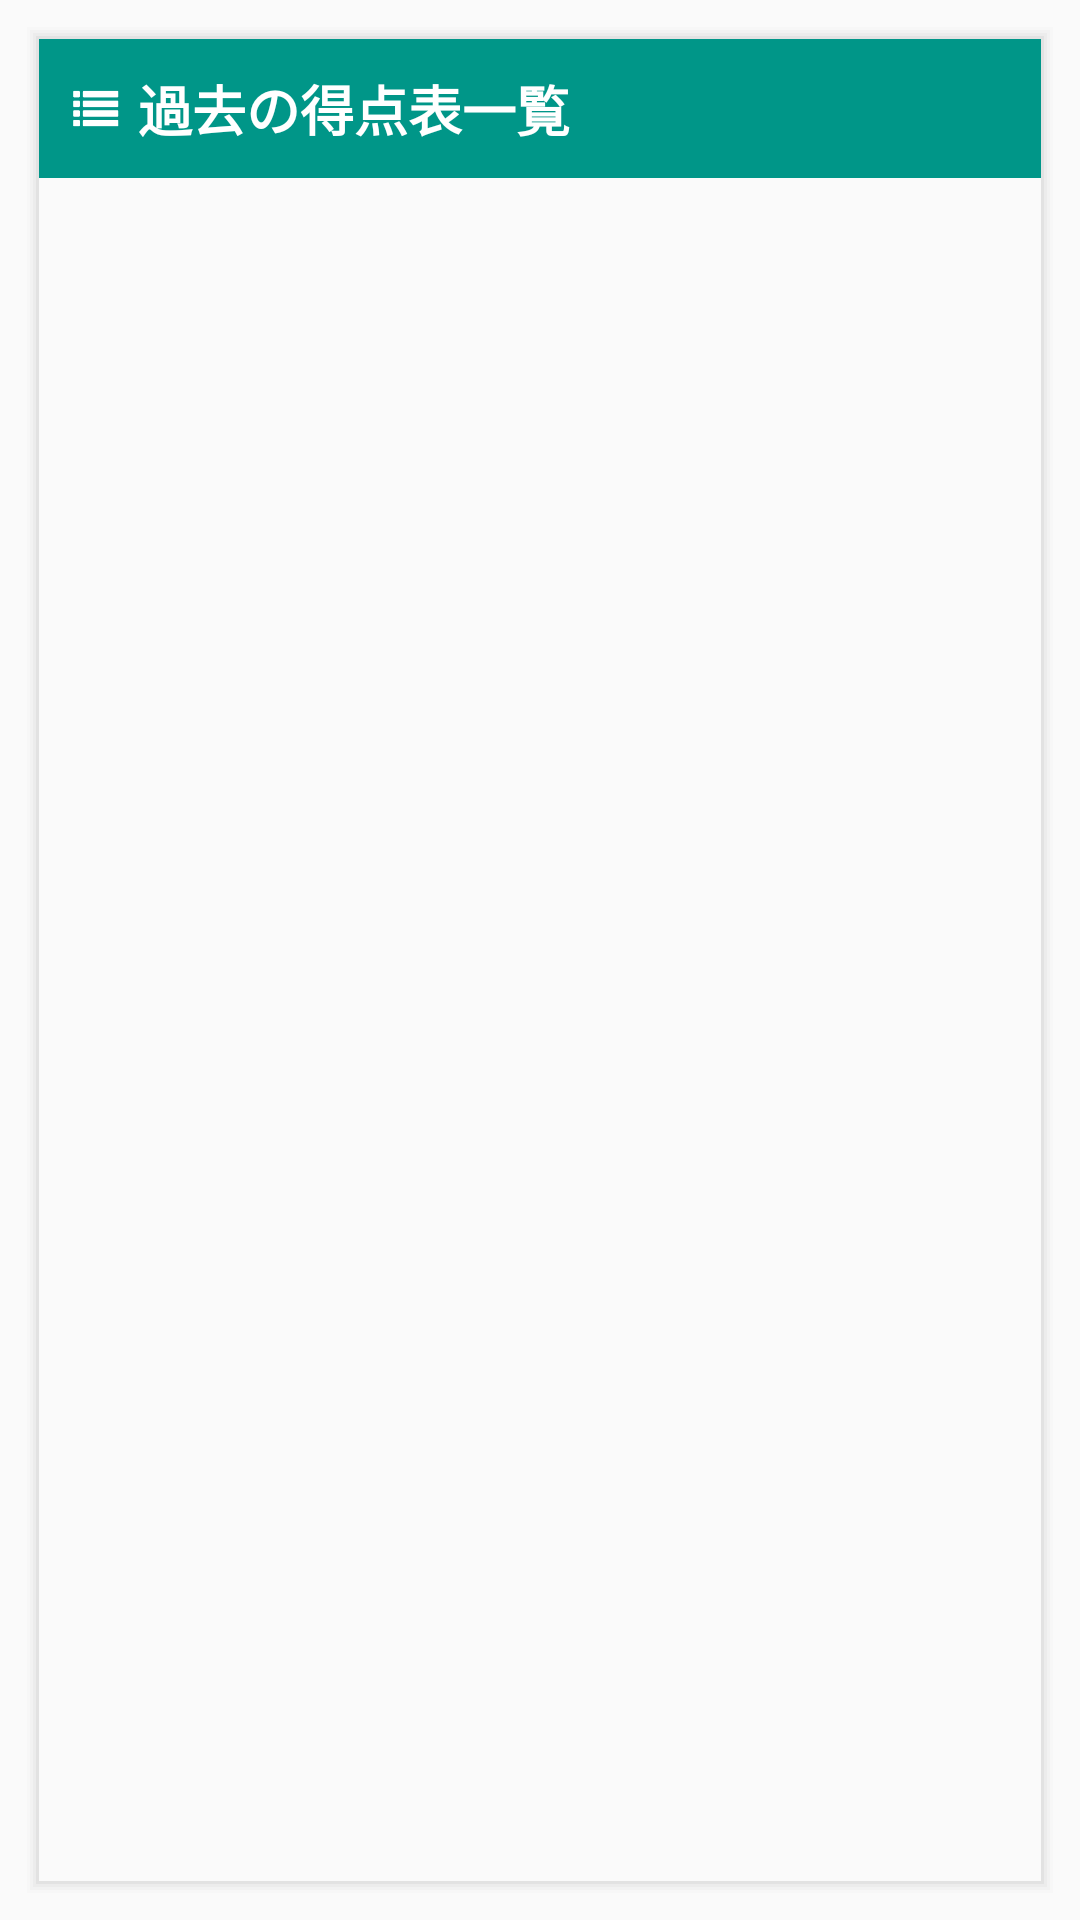

Icons on this 1080w x 1920h Android screen, each with the point to tap as point (x, y):
list: point (96, 109)
